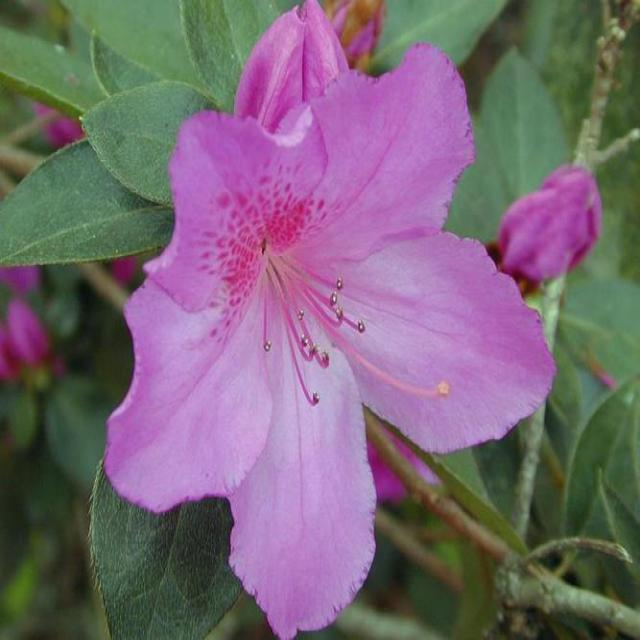azalea: (113, 15, 552, 631)
